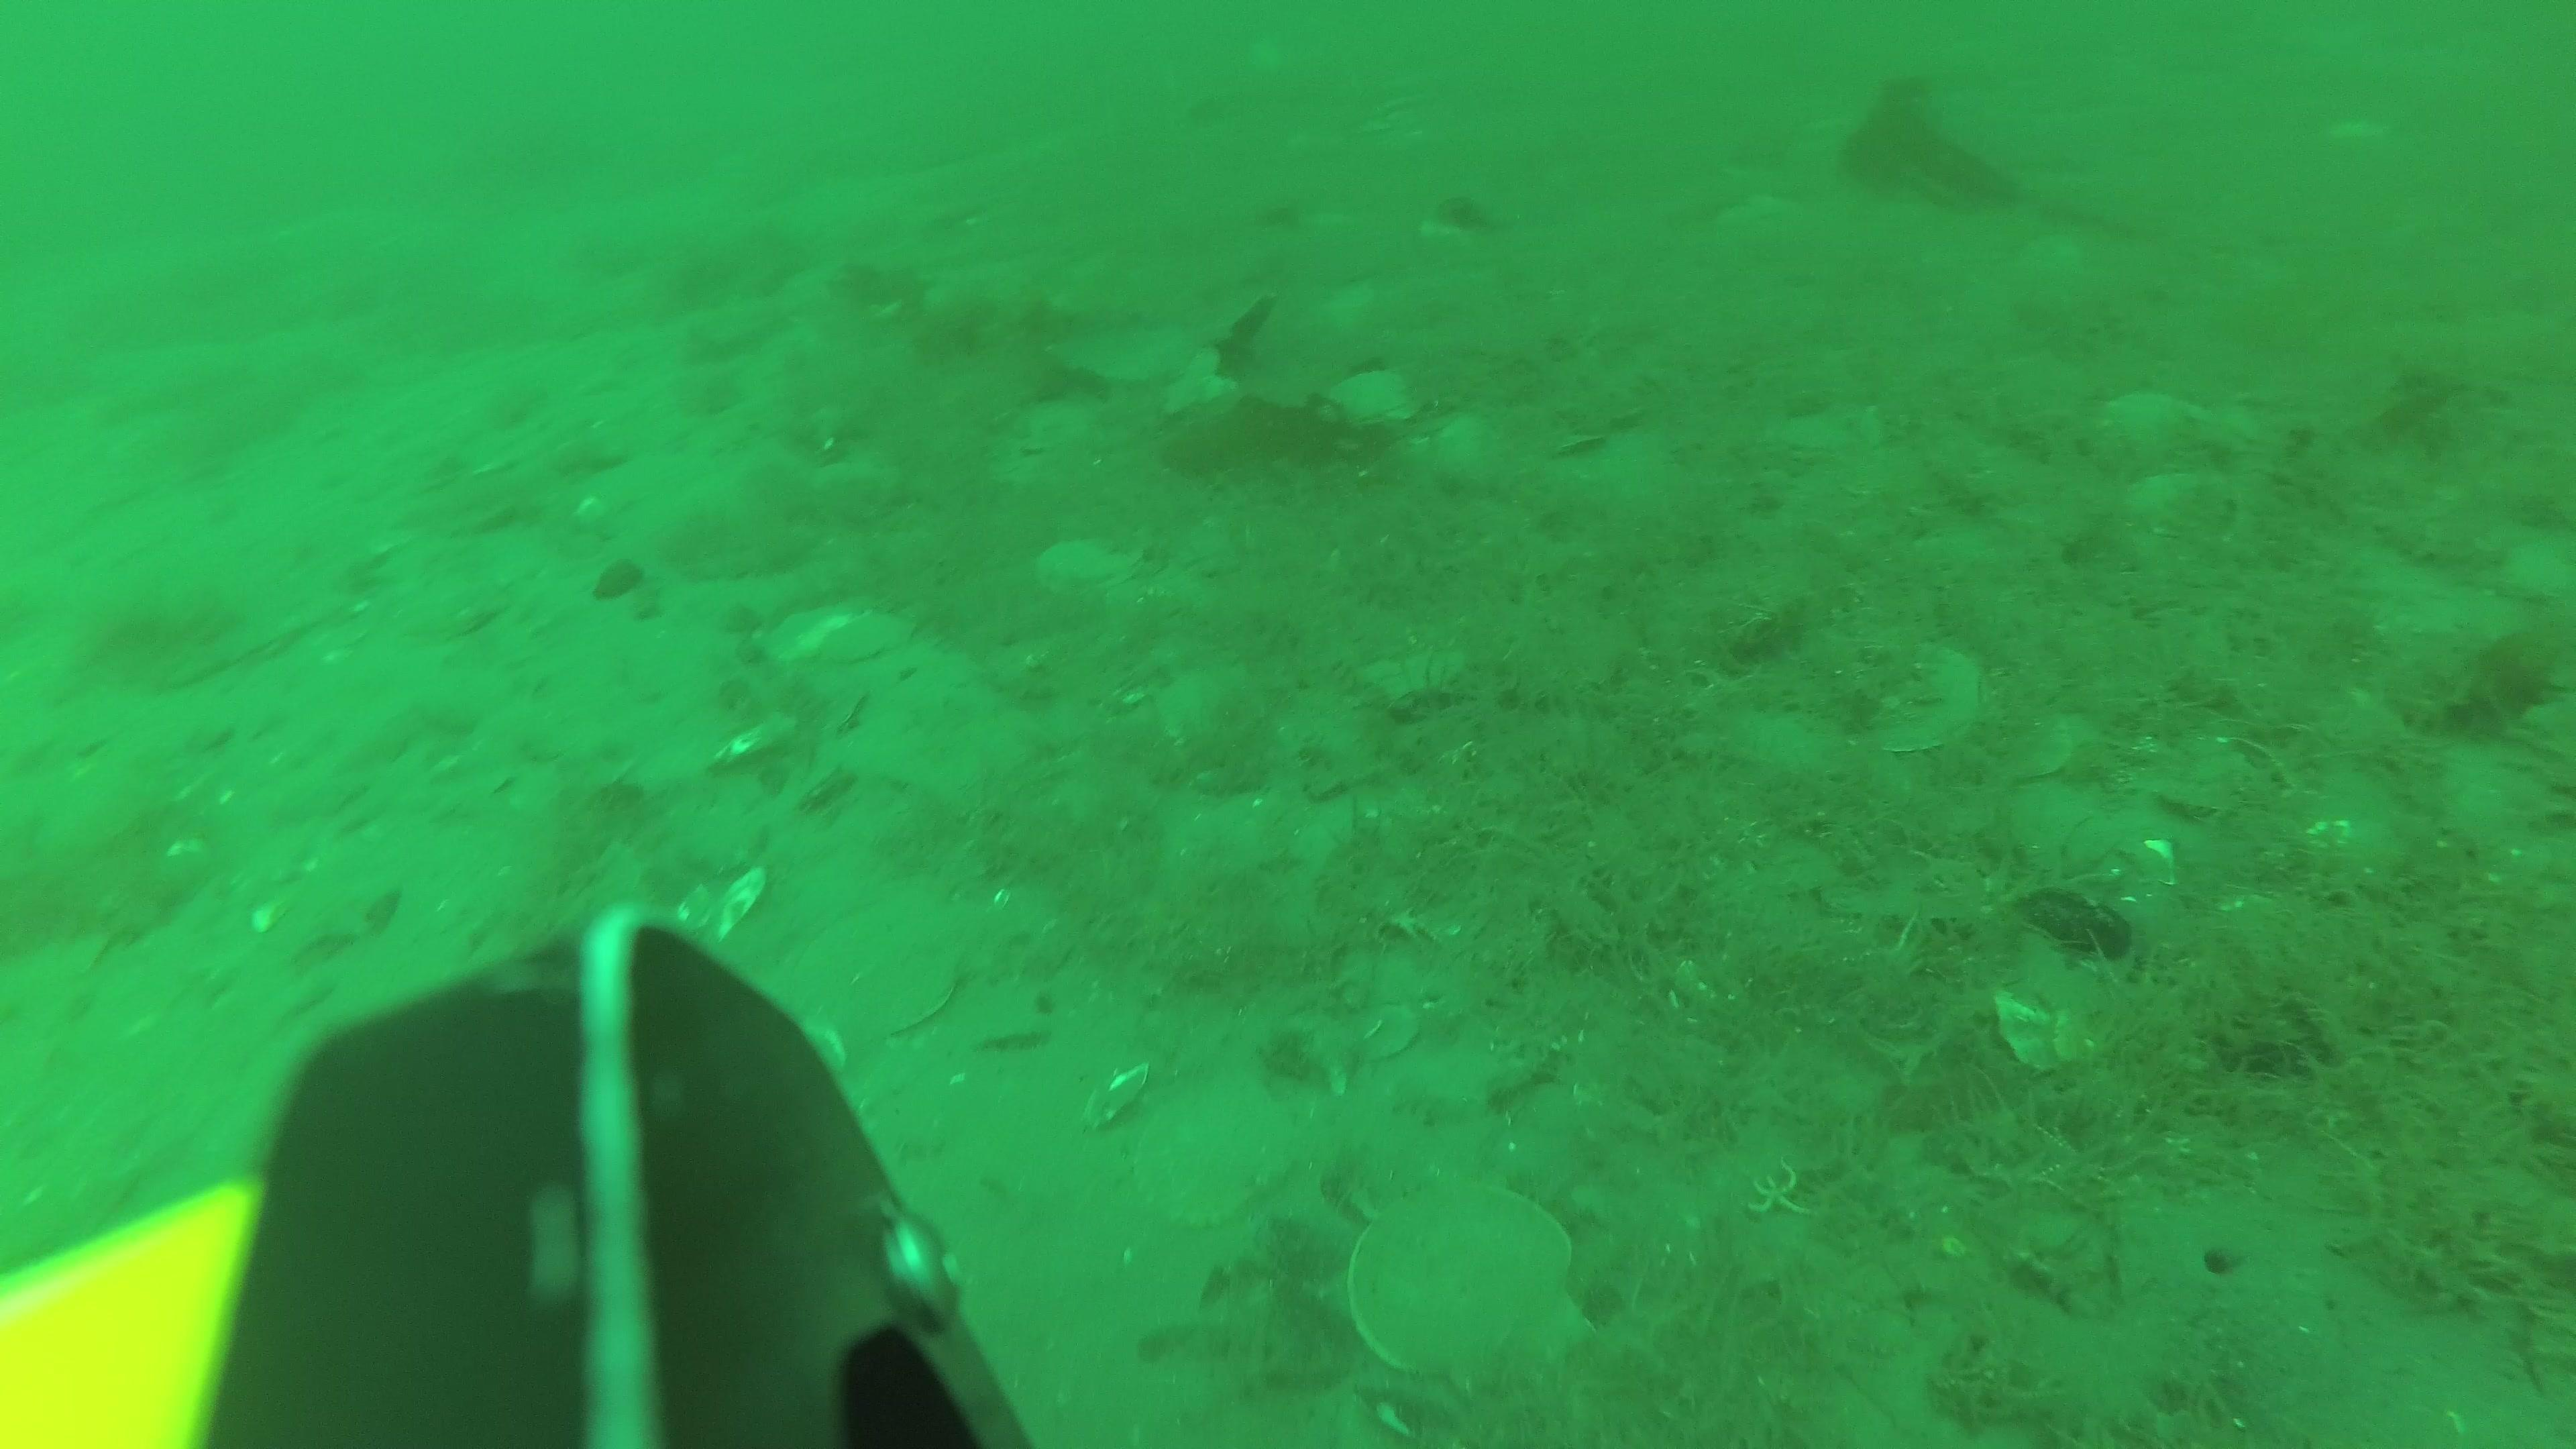scallop: (1350, 1178, 1596, 1387), (1141, 1063, 1297, 1228), (798, 908, 961, 1033), (1859, 646, 1987, 752), (771, 605, 904, 669), (402, 580, 508, 642), (1327, 366, 1415, 432), (1046, 538, 1139, 591)
